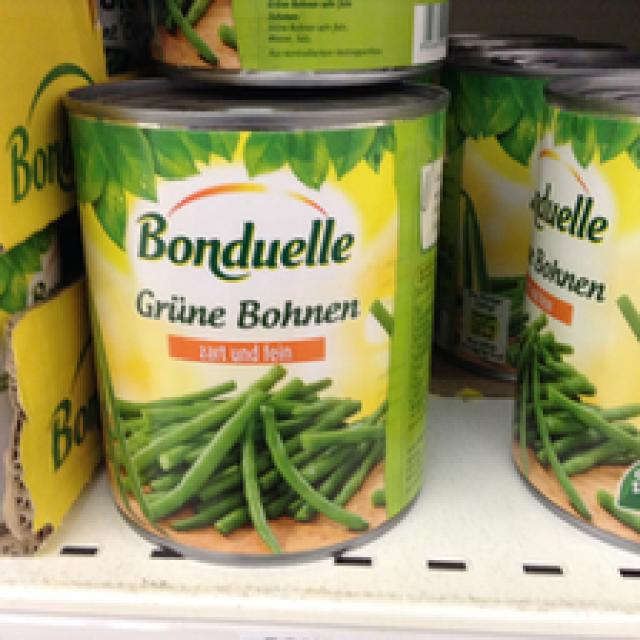groceries: (60, 74, 446, 560), (492, 69, 637, 548)
